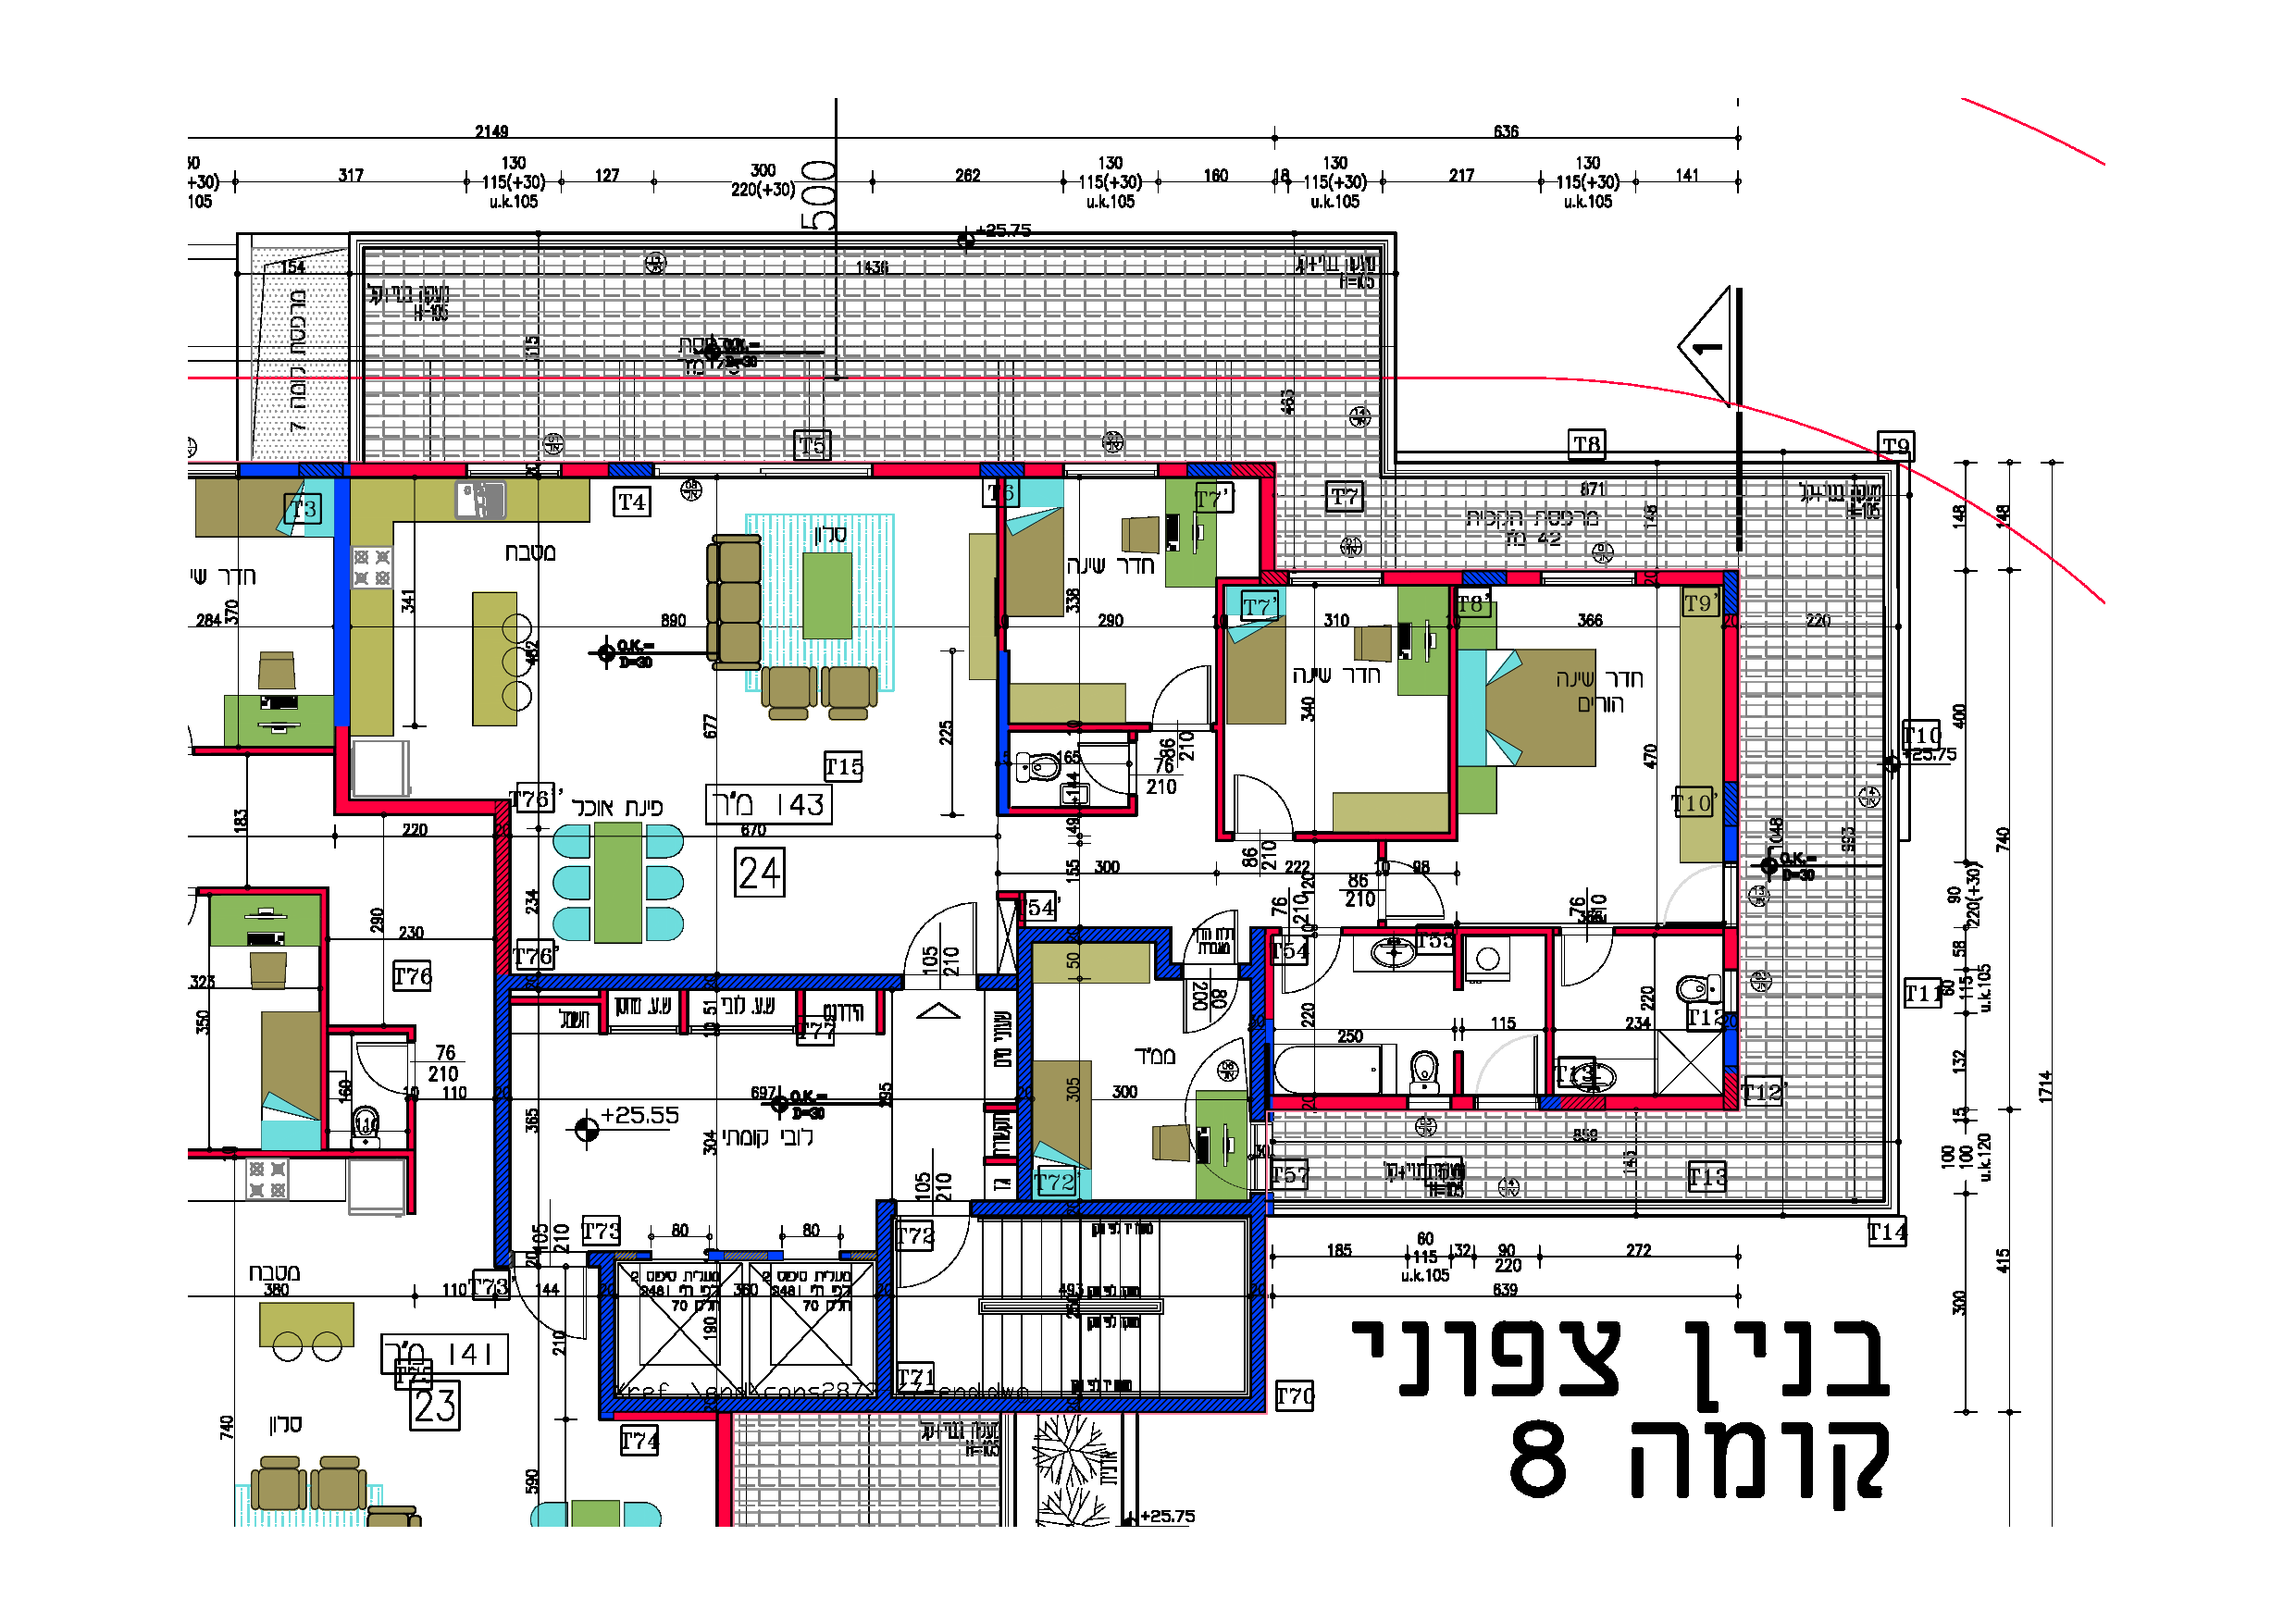door: (898, 896, 987, 966), (1230, 762, 1302, 824), (1553, 940, 1628, 996), (1144, 657, 1212, 717), (1476, 1033, 1541, 1093), (1658, 861, 1718, 924), (353, 1038, 404, 1105), (1180, 991, 1235, 1038)
wall: (597, 1395, 1265, 1414), (492, 799, 509, 1263), (334, 480, 348, 813), (1017, 931, 1031, 1198), (971, 1201, 1256, 1214), (877, 1207, 892, 1409), (1249, 1200, 1265, 1402), (1251, 927, 1267, 1117), (1019, 927, 1166, 943), (727, 977, 894, 989), (1723, 629, 1736, 782), (548, 975, 697, 987), (1349, 927, 1551, 936), (339, 801, 504, 811), (1159, 464, 1275, 478), (998, 652, 1008, 806), (1217, 629, 1224, 840), (1449, 634, 1456, 840), (321, 892, 327, 1147), (877, 464, 977, 476), (1261, 478, 1274, 573), (1300, 833, 1455, 840), (998, 506, 1005, 650), (246, 1151, 411, 1156), (1384, 573, 1462, 583), (1154, 929, 1170, 977), (206, 889, 329, 894), (409, 1103, 415, 1212), (724, 1252, 766, 1259), (1261, 573, 1288, 583)
window: (1539, 566, 1639, 592), (464, 457, 564, 481), (1286, 566, 1386, 590), (1063, 457, 1161, 481), (1404, 1091, 1453, 1112), (1720, 970, 1741, 1015)
